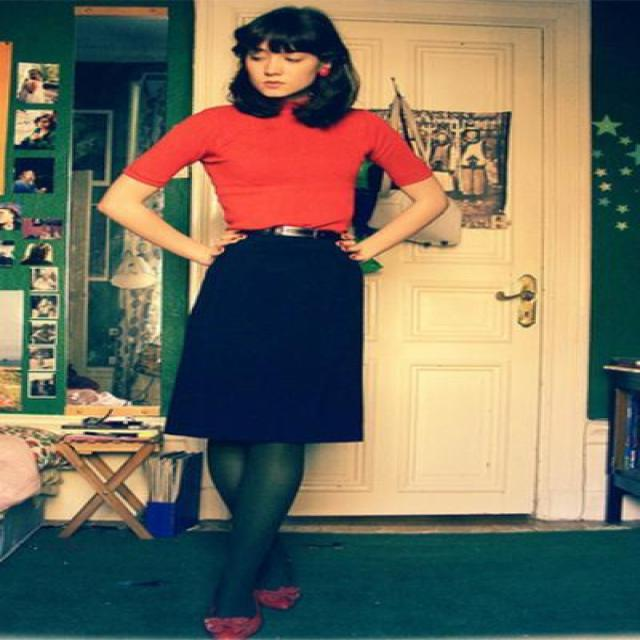shirt: (123, 105, 453, 240)
shoe: (202, 587, 298, 639)
skirt: (160, 226, 363, 444)
